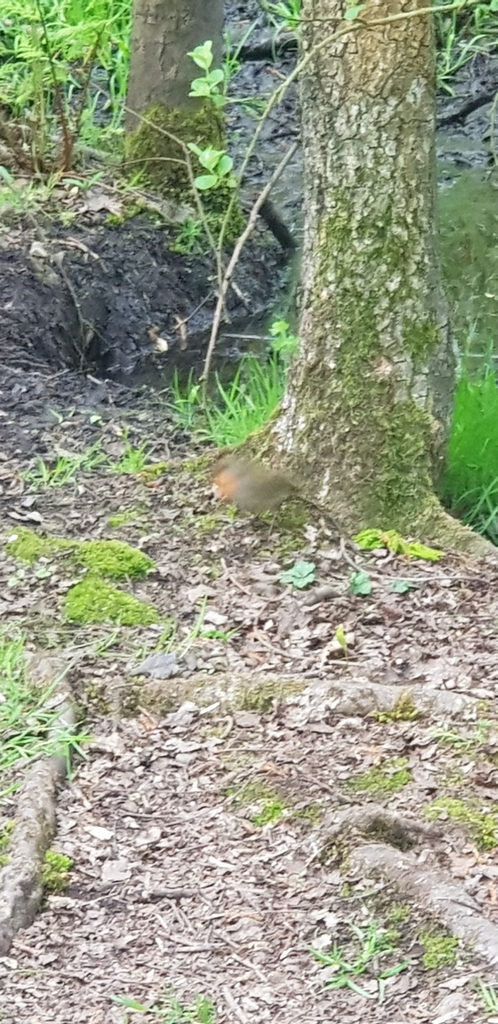Erithacus_Rubecula: (209, 455, 305, 539)
